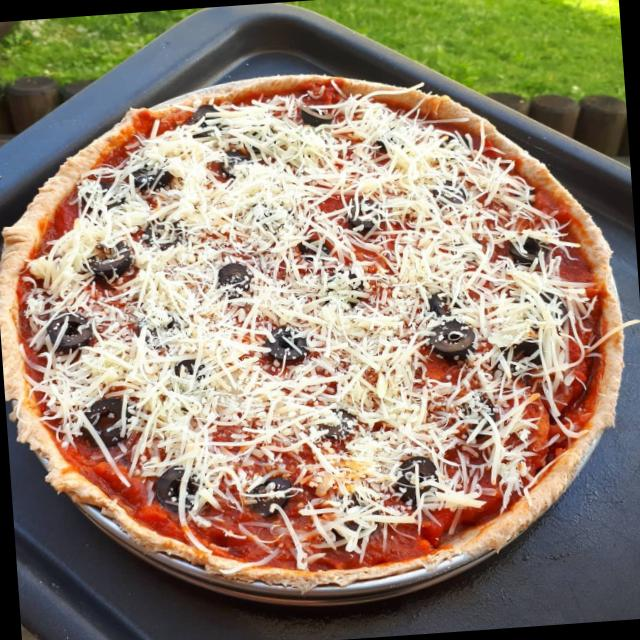black_olives: (78, 393, 134, 448), (156, 458, 207, 512), (47, 306, 93, 355), (81, 230, 132, 273), (245, 472, 294, 514), (430, 317, 480, 358), (392, 452, 438, 496), (504, 234, 552, 270), (270, 319, 311, 361), (178, 102, 223, 136), (297, 229, 342, 263), (131, 156, 178, 188), (318, 401, 354, 442), (216, 258, 254, 296), (348, 195, 388, 229), (429, 178, 468, 205), (300, 100, 336, 126)
pizza: (0, 76, 625, 604)
